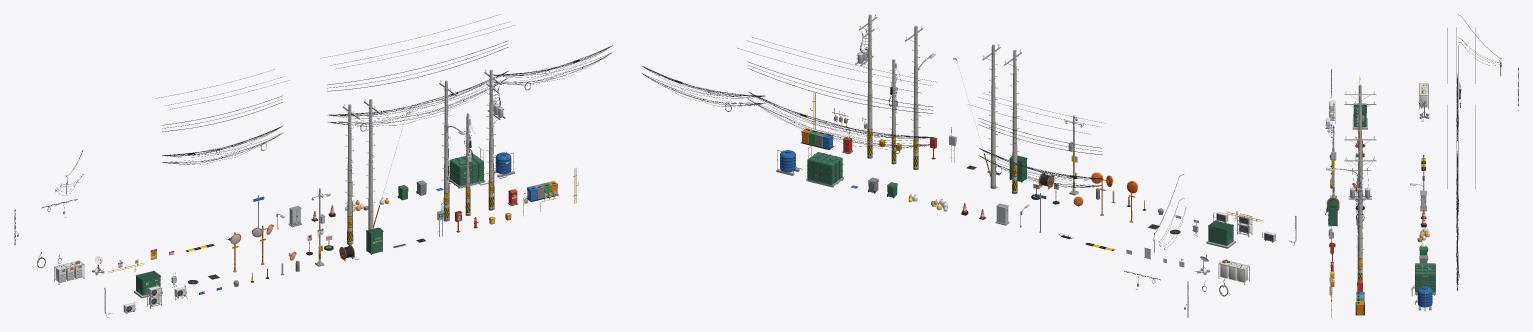
Rendered from SeoulCorner_AlleyUtility.glb.
3 views of the same model, side by side, from view 1: azimuth 30°, elevation 25°; view 2: azimuth 150°, elevation 25°; view 3: azimuth 270°, elevation 25° (orthographic). The views are drawn at different scales.
Parts seen in each view (by area): view 1: SC_Util_Wire_Span_15m, SC_Util_Wire_Span_10m, SC_Util_Pole_Transformer, SC_Util_Water_Tank_Green, SC_Util_Pole_Streetlight, SC_Util_Wire_Span_Telecom_10m, SC_Util_Pole_Concrete, SC_Util_Pole_Concrete_Plain, SC_Util_Pole_Telecom, SC_Util_Recycle_Sack_Frame, SC_Util_Ground_Transformer, SC_Util_Recycle_Bins (+2 smaller); view 2: SC_Util_Wire_Span_15m, SC_Util_Wire_Span_10m, SC_Util_Water_Tank_Green, SC_Util_Pole_Transformer, SC_Util_Wire_Span_Telecom_10m, SC_Util_Pole_Streetlight, SC_Util_Pole_Concrete, SC_Util_Pole_Concrete_Plain, SC_Util_Ground_Transformer, SC_Util_Pole_Telecom, SC_Util_Recycle_Sack_Frame, SC_Util_Recycle_Bins; view 3: SC_Util_Pole_Transformer, SC_Util_Water_Tank_Green, SC_Util_Wire_Span_15m, SC_Util_Water_Tank_Rooftop, SC_Util_Wire_Span_10m, SC_Util_Pole_Concrete_Plain, SC_Util_Pole_Streetlight, SC_Util_Ground_Transformer, SC_Util_Clothes_Bin, SC_Util_CCTV_Pole, SC_Util_Recycle_Bins, SC_Util_Recycle_Sack_Frame (+1 smaller).
Part boxes in pixels (x1,y1,x2,y2): SC_Util_Wire_Span_15m: (320,14,514,131); SC_Util_Wire_Span_10m: (155,69,289,164); SC_Util_Pole_Transformer: (484,69,505,210); SC_Util_Water_Tank_Green: (449,146,488,188); SC_Util_Pole_Streetlight: (439,80,465,221); SC_Util_Wire_Span_Telecom_10m: (493,45,612,90); SC_Util_Pole_Concrete: (342,103,360,244); SC_Util_Pole_Concrete_Plain: (363,98,381,229); SC_Util_Pole_Telecom: (463,113,475,215); SC_Util_Recycle_Sack_Frame: (54,260,84,284); SC_Util_Ground_Transformer: (134,270,162,298); SC_Util_Recycle_Bins: (526,181,558,201); SC_Util_Wire_Span_15m: (737,37,936,153); SC_Util_Wire_Span_10m: (968,93,1104,187); SC_Util_Water_Tank_Green: (806,144,843,187); SC_Util_Pole_Transformer: (855,14,877,158); SC_Util_Wire_Span_Telecom_10m: (641,66,765,111); SC_Util_Pole_Streetlight: (905,25,935,169); SC_Util_Pole_Concrete: (1004,49,1021,193); SC_Util_Pole_Concrete_Plain: (982,44,1000,188); SC_Util_Ground_Transformer: (1206,220,1235,248); SC_Util_Pole_Telecom: (889,59,900,164); SC_Util_Recycle_Sack_Frame: (1218,259,1249,284); SC_Util_Recycle_Bins: (801,128,834,149); SC_Util_Pole_Transformer: (1344,151,1376,280); SC_Util_Water_Tank_Green: (1411,263,1435,296); SC_Util_Wire_Span_15m: (1447,105,1475,242); SC_Util_Water_Tank_Rooftop: (1415,286,1432,311); SC_Util_Wire_Span_10m: (1447,27,1475,140); SC_Util_Pole_Concrete_Plain: (1344,95,1376,227); SC_Util_Pole_Streetlight: (1326,130,1376,253); SC_Util_Ground_Transformer: (1352,103,1367,129); SC_Util_Clothes_Bin: (1326,200,1337,226); SC_Util_CCTV_Pole: (1327,125,1336,198); SC_Util_Recycle_Bins: (1355,291,1364,315); SC_Util_Recycle_Sack_Frame: (1419,83,1428,109).
Bounding box in the file's own units: 47.46 × 11.02 × 14.51.
Materials: 4 (4 with a texture image).
